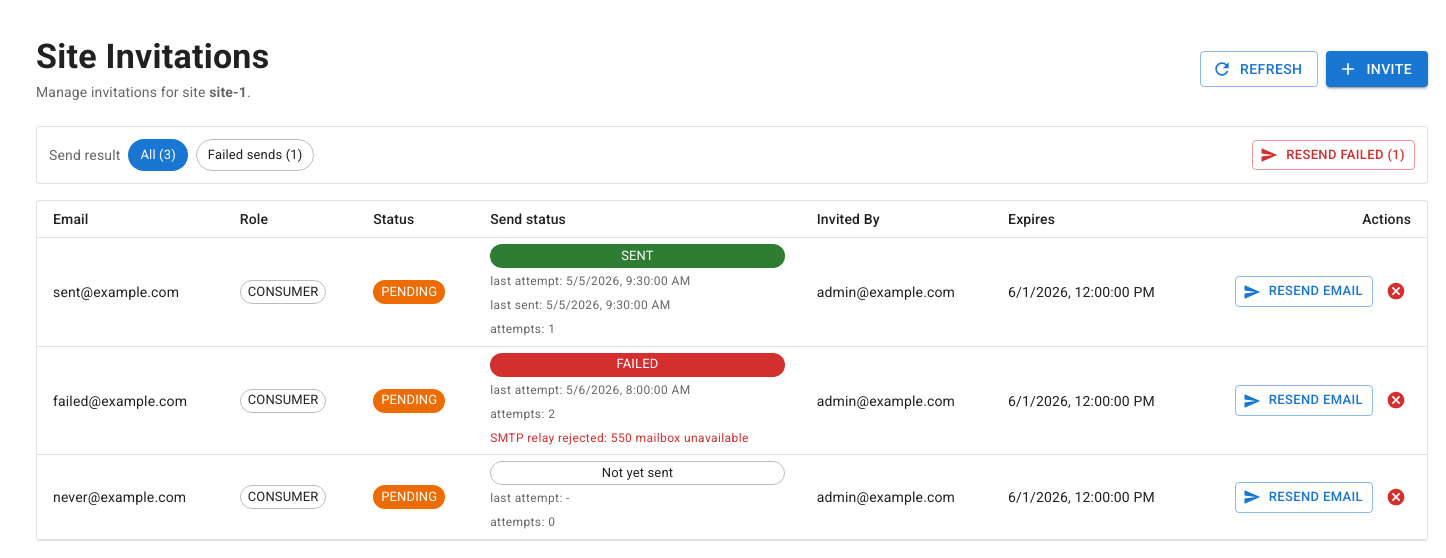
SiteInvitationsPage send-status filter chips › filters the table to failed sends and can return to all invitations
Expected: the text "sent@example.com" is shown, [53,284,179,300]
Expected: the text "failed@example.com" is shown, [53,391,208,411]
Step 1. Click the button with aria-label "Show failed-send invitations (1)" → (255, 155), box [196,139,314,171]
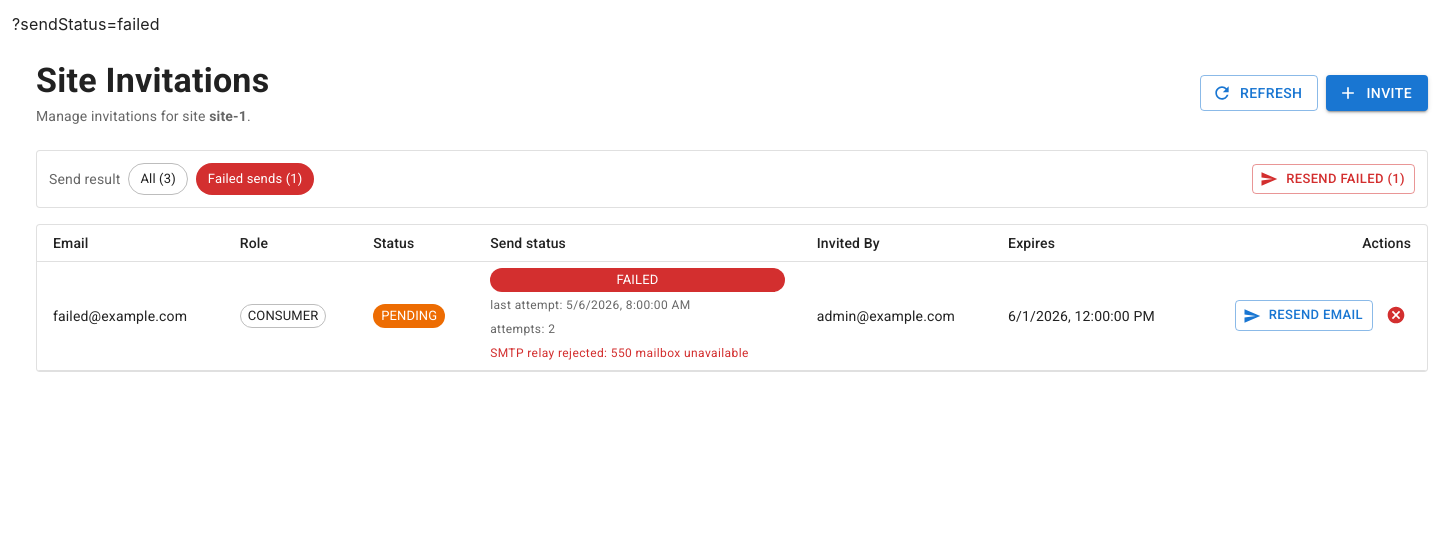
Expected: the text "sent@example.com" is gone
Expected: the text "never@example.com" is gone
Expected: the text with test id "location-search" reads "?sendStatus=failed", [12,14,160,34]
Step 2. Click the button with aria-label "Show all invitations (3)" → (158, 179), box [128,163,188,195]
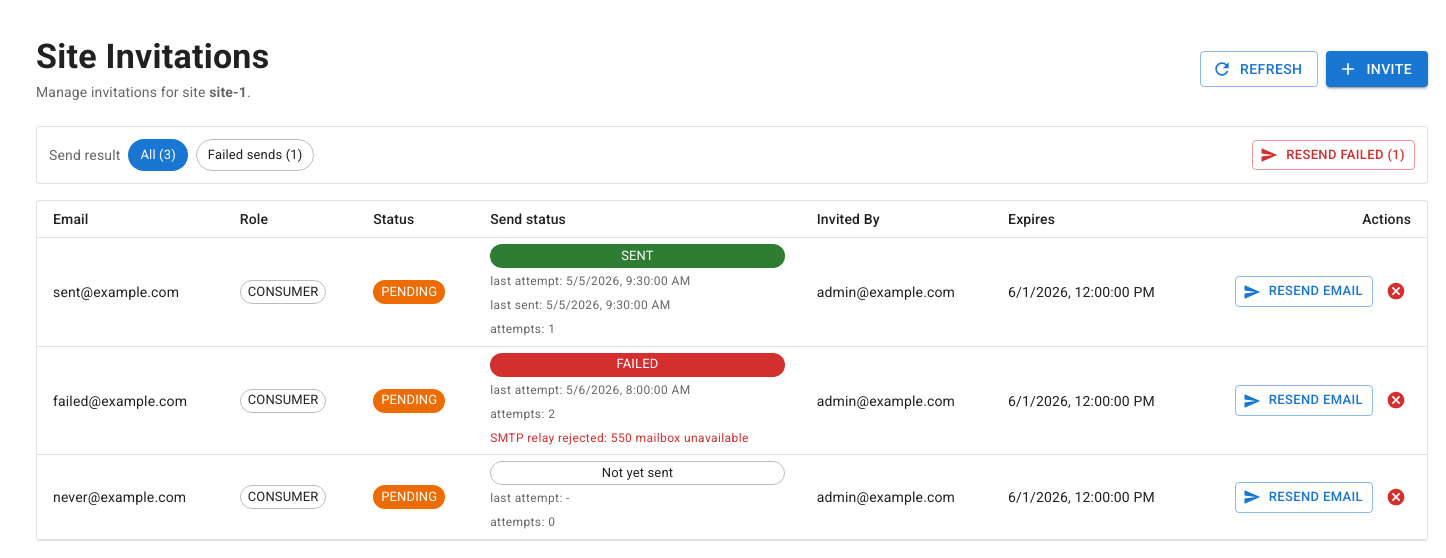
Expected: the text "failed@example.com" is shown, [53,391,208,411]
Expected: the text "sent@example.com" is shown, [53,284,179,300]
Expected: the text "never@example.com" is shown, [53,487,208,507]
